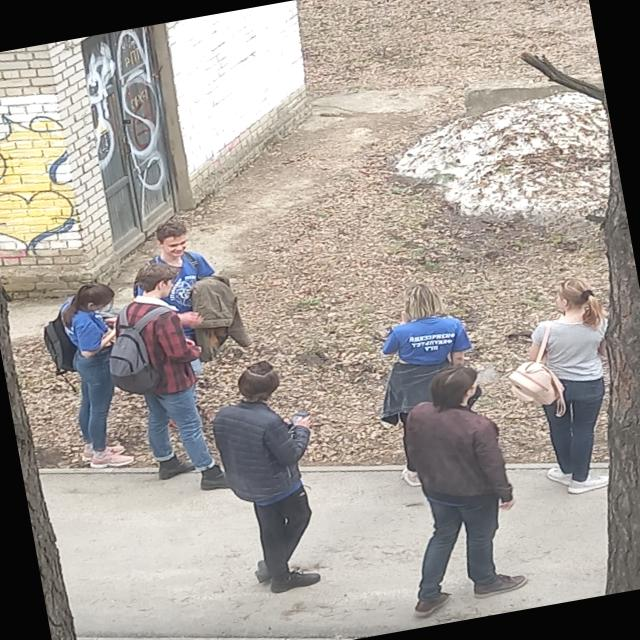person: (374, 356, 534, 613), (201, 354, 340, 598), (92, 256, 230, 500), (505, 271, 637, 496), (358, 274, 494, 488), (38, 276, 145, 472), (126, 212, 247, 377), (122, 214, 226, 343)
